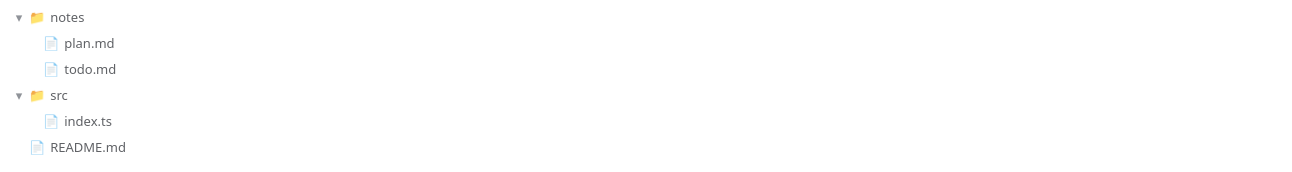
Test: LabTree › collapses/expands a directory on click (kids hide then reappear)
Expected: the button with test id "node-notes/plan.md" is shown, [20,30,1280,56]
Click the button with test id "dir-notes" at (67, 17), box [6,4,1280,30]
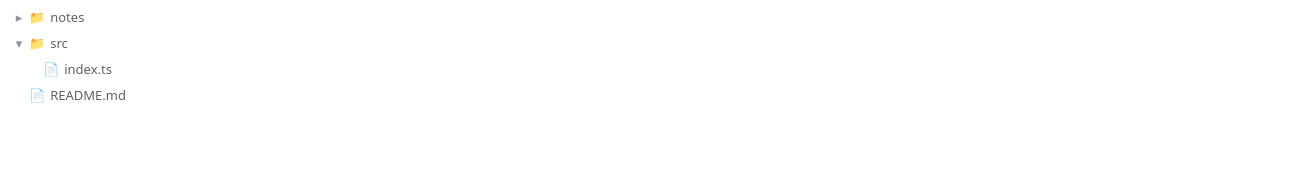
Click the button with test id "dir-notes" at (67, 17), box [6,4,1280,30]
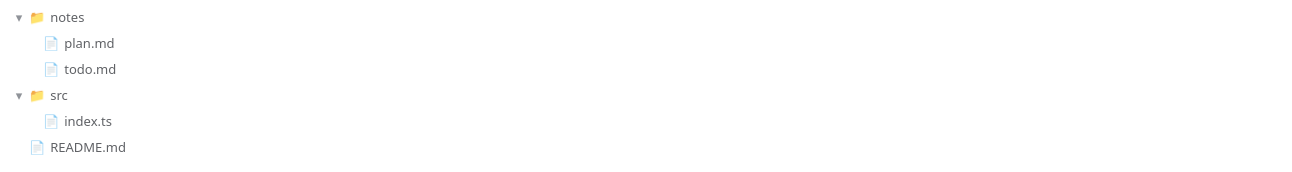
Now the button with test id "node-notes/plan.md" is shown, box [20,30,1280,56]
